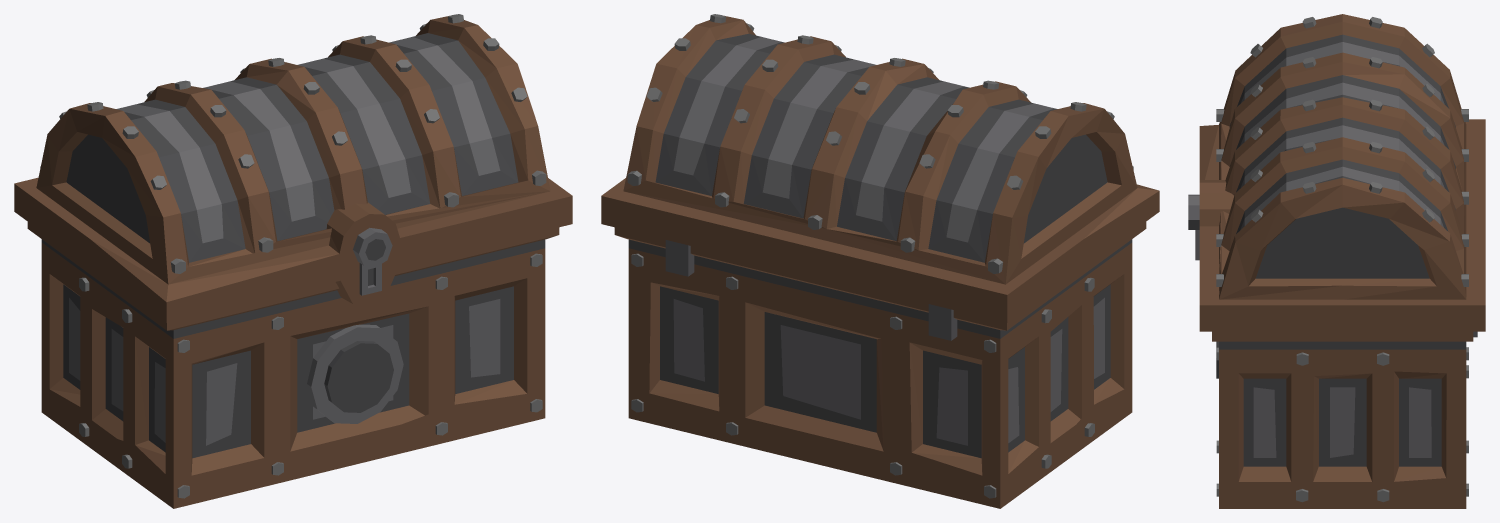
Rendered from SM_Prop_Chest_01.glb.
3 views of the same model, side by side, from view 1: azimuth 30°, elevation 25°; view 2: azimuth 150°, elevation 25°; view 3: azimuth 270°, elevation 25° (orthographic). The views are drawn at different scales.
Visible parts, largest first — view 1: SM_Prop_Chest_01_part01, SM_Prop_Chest_01_part00; view 2: SM_Prop_Chest_01_part01, SM_Prop_Chest_01_part00; view 3: SM_Prop_Chest_01_part01, SM_Prop_Chest_01_part00.
Part boxes in pixels (left/top/right/bottom): SM_Prop_Chest_01_part01: left=14, top=14, right=572, bottom=322; SM_Prop_Chest_01_part00: left=27, top=222, right=559, bottom=508; SM_Prop_Chest_01_part01: left=601, top=14, right=1159, bottom=322; SM_Prop_Chest_01_part00: left=614, top=222, right=1146, bottom=508; SM_Prop_Chest_01_part01: left=1188, top=14, right=1485, bottom=331; SM_Prop_Chest_01_part00: left=1212, top=331, right=1477, bottom=508.
Size of the model in its own units: 1.01 by 0.8198 by 0.6807.
1 material, 1 textured.
